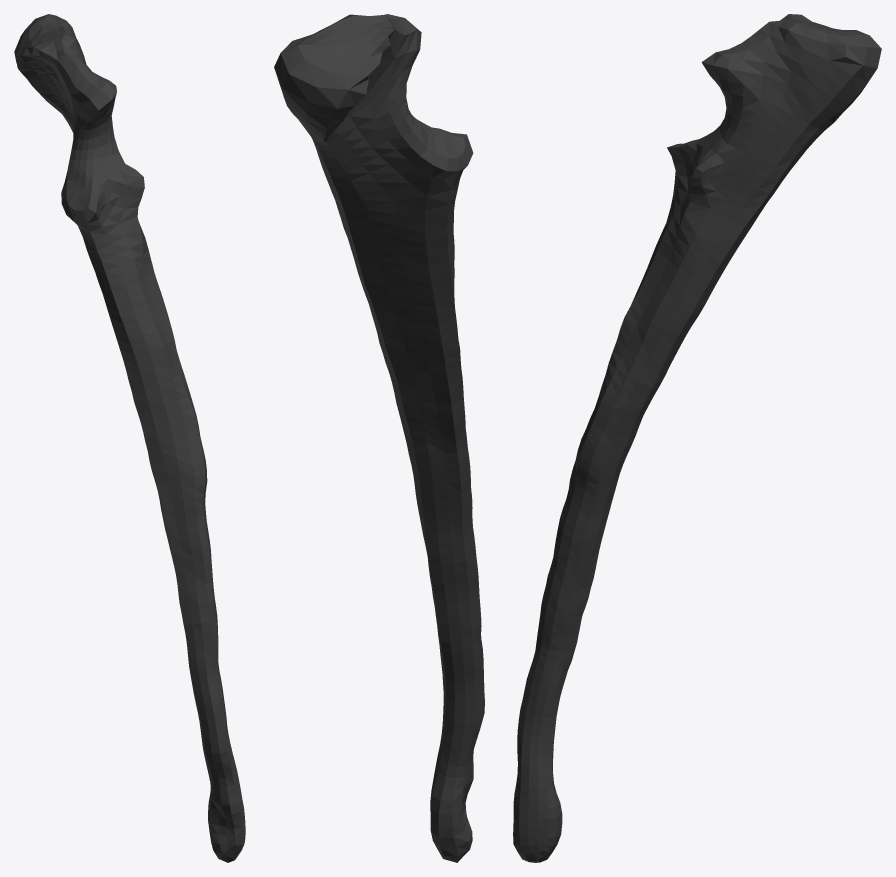
File: Ulna.glb
3 renders of one model, left to right at view 1: azimuth 30°, elevation 25°; view 2: azimuth 150°, elevation 25°; view 3: azimuth 270°, elevation 25°, orthographic. The views are drawn at different scales.
Parts seen in each view (by area): view 1: Ulna; view 2: Ulna; view 3: Ulna.
Part boxes in pixels (x1,y1,x2,y2): Ulna: (14,14,245,862); Ulna: (274,14,484,862); Ulna: (513,14,881,862).
Size of the model in its own units: 1.46 by 10.94 by 4.47.
1 material, 1 textured.
